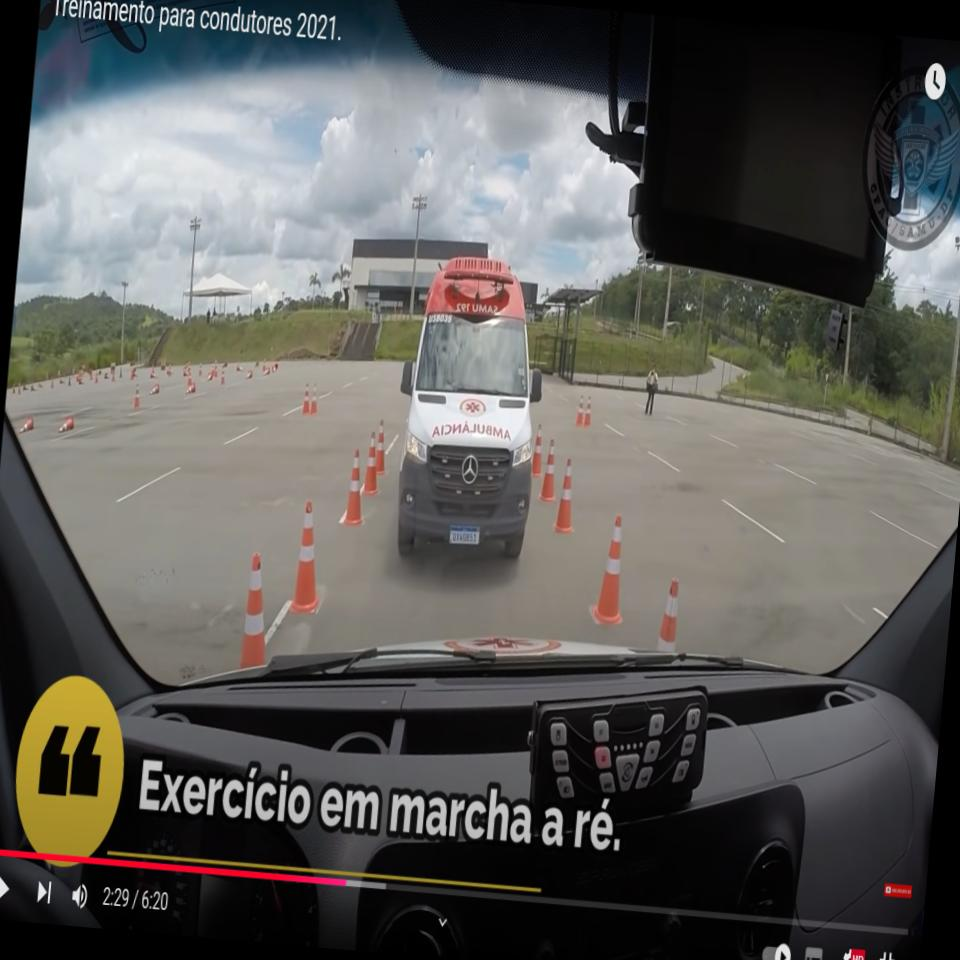bombeiro: (382, 248, 558, 570)
